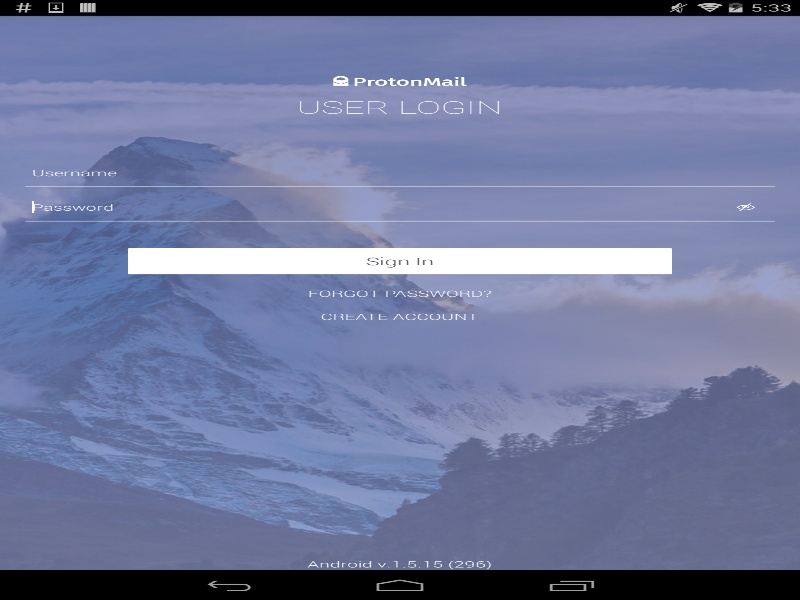Button: (128, 248, 672, 274)
Input: (21, 156, 778, 188), (21, 191, 778, 223)
